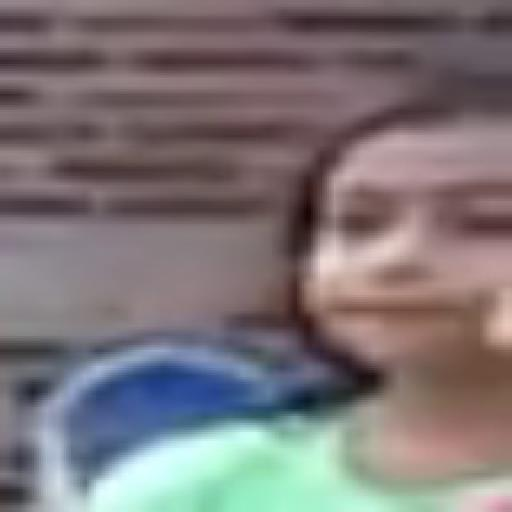Autism: (270, 113, 512, 423)
